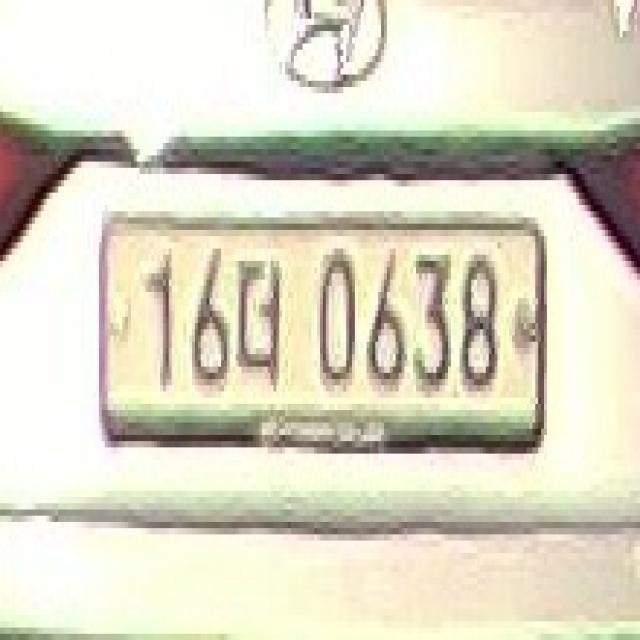0: (317, 242, 364, 404)
1: (140, 242, 186, 404)
3: (407, 236, 457, 410)
6: (186, 236, 233, 404), (361, 236, 407, 404)
8: (454, 243, 503, 417)
deo: (233, 242, 285, 398)
license_plate: (96, 205, 556, 460)
